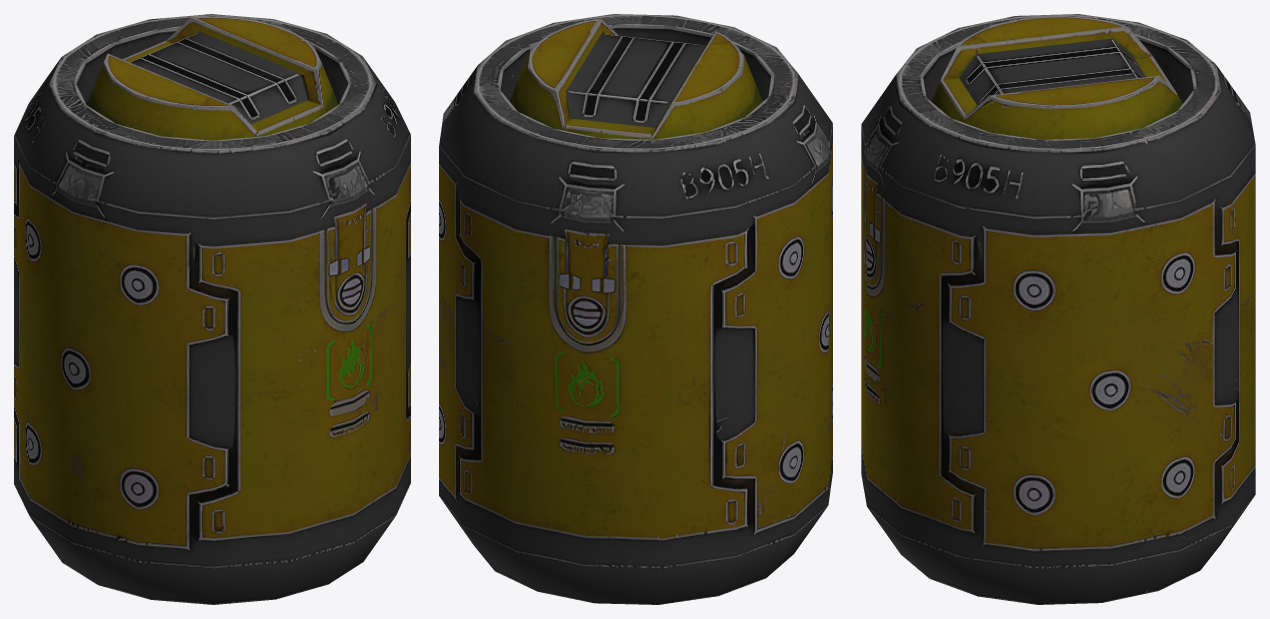
The model's file is barrel_1.obj.
The picture shows the model from 3 angles, left to right: view 1: azimuth 30°, elevation 25°; view 2: azimuth 150°, elevation 25°; view 3: azimuth 270°, elevation 25°; orthographic projection.
Visible parts, largest first — view 1: cifibarrel:barrel1_geo_barrel1_0_1_0_0_0_0; view 2: cifibarrel:barrel1_geo_barrel1_0_1_0_0_0_0; view 3: cifibarrel:barrel1_geo_barrel1_0_1_0_0_0_0.
Part boxes in pixels (left/top/right/bottom): cifibarrel:barrel1_geo_barrel1_0_1_0_0_0_0: left=14, top=14, right=410, bottom=604; cifibarrel:barrel1_geo_barrel1_0_1_0_0_0_0: left=439, top=14, right=832, bottom=604; cifibarrel:barrel1_geo_barrel1_0_1_0_0_0_0: left=861, top=14, right=1255, bottom=604.
Size of the model in its own units: 60.79 by 80.79 by 60.79.
